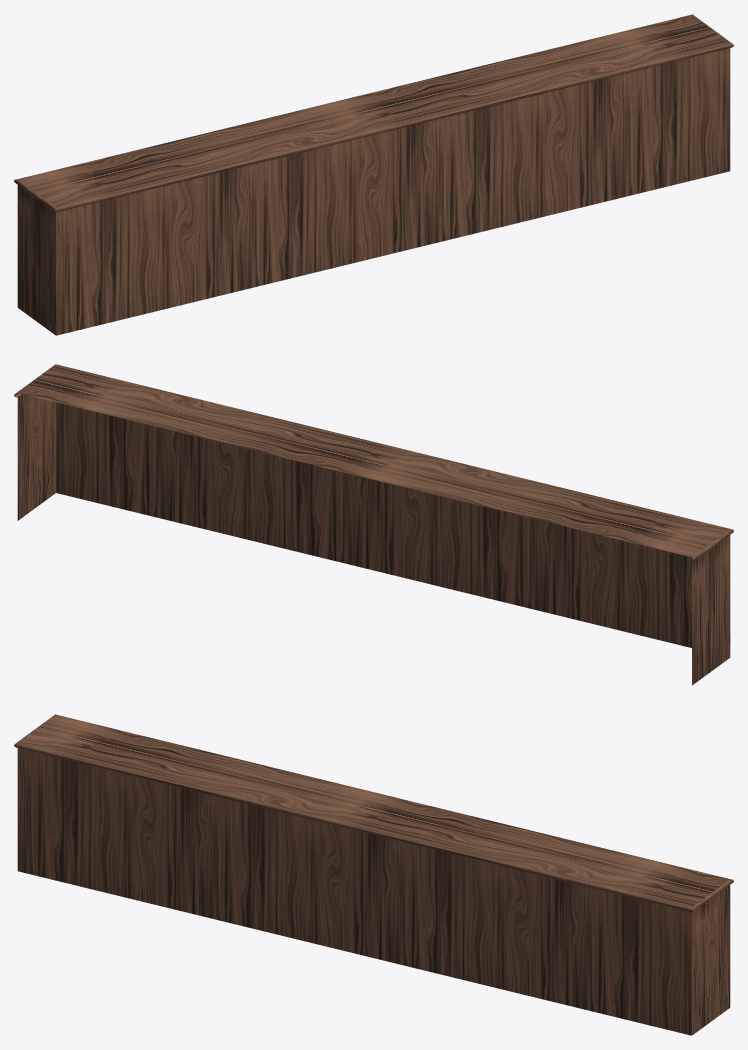
Rendered from bar_counter.fbx.
The picture shows the model from 3 angles, top to bottom: view 1: azimuth 30°, elevation 25°; view 2: azimuth 150°, elevation 25°; view 3: azimuth 330°, elevation 25°; orthographic projection.
Visible parts, largest first — view 1: pCube1; view 2: pCube1; view 3: pCube1.
Boxes of the visible parts, box(x1,y1,x2,y2) form: pCube1: box(14, 14, 733, 335); pCube1: box(14, 364, 733, 685); pCube1: box(14, 714, 733, 1035).
Bounding box in the file's own units: 152 × 27.5 × 15.98.
